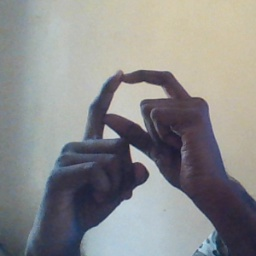D: (67, 64, 204, 194)
